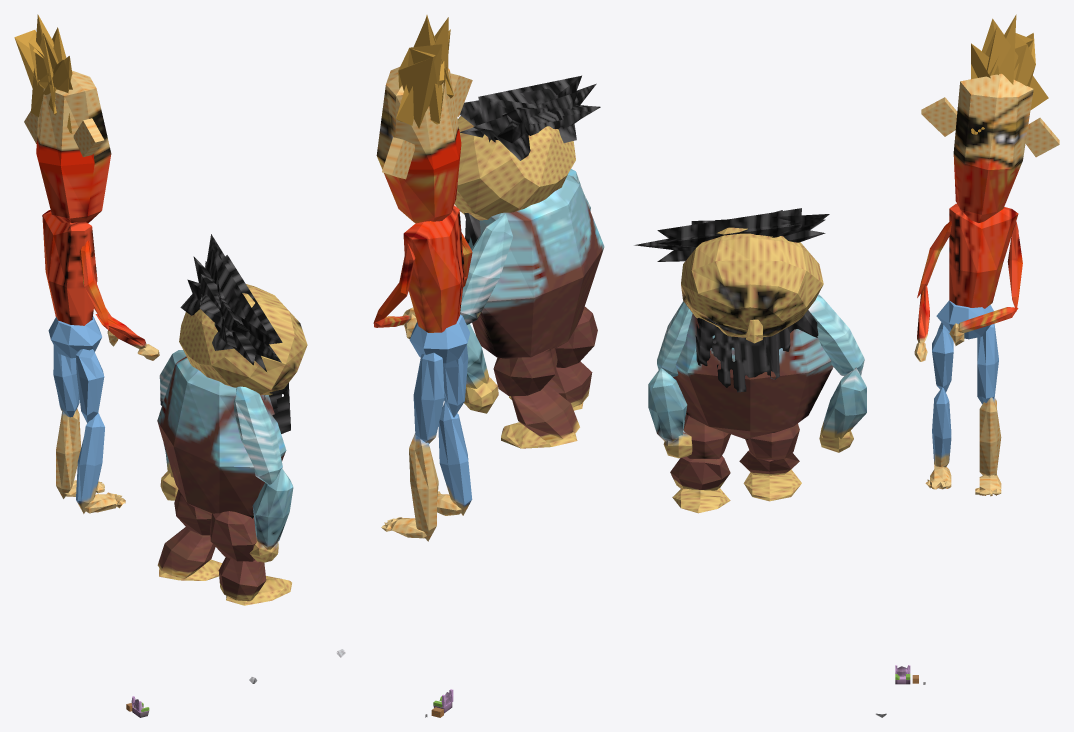
Rendered from Kazale2.glb.
3 views of the same model, side by side, from view 1: azimuth 30°, elevation 25°; view 2: azimuth 150°, elevation 25°; view 3: azimuth 270°, elevation 25° (orthographic). The views are drawn at different scales.
Visible parts, largest first — view 1: Kazale2; view 2: Kazale2; view 3: Kazale2.
Part boxes in pixels (x1,y1,x2,y2): Kazale2: (14, 14, 307, 717); Kazale2: (336, 15, 604, 717); Kazale2: (634, 14, 1059, 717).
Bounding box in the file's own units: 73.89 × 289 × 172.
Materials: 1 (1 with a texture image).
